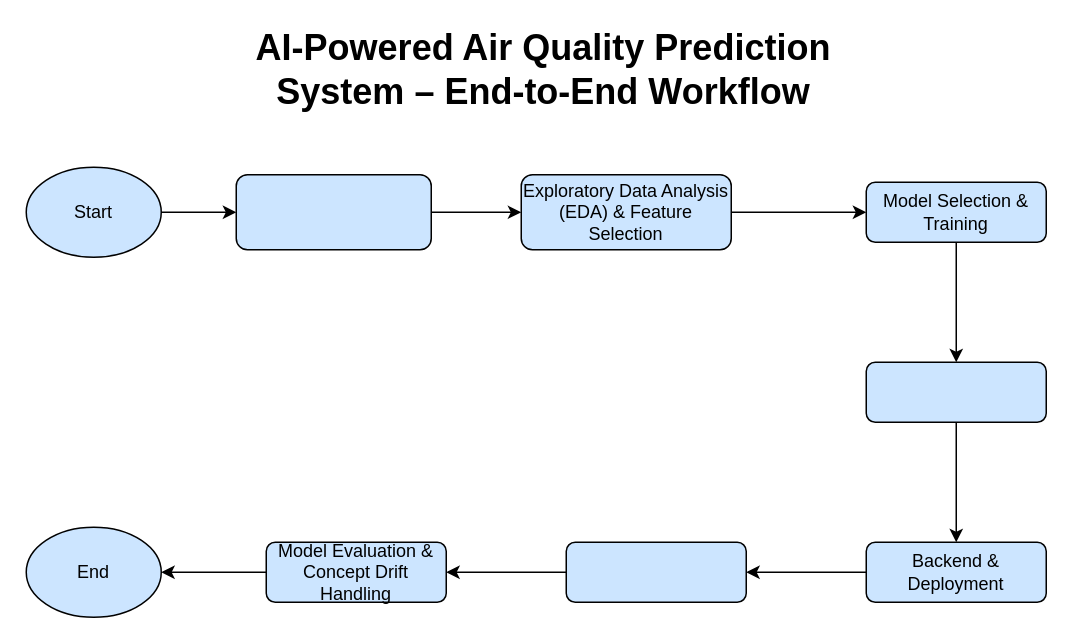
This 1073x644 diagram has some shape labels left out. The centre of each missing label's shape, as x and y in pixels:
"Data Collection & Preprocessing" goes at (333,211).
"Live AQI Fetching (API Integration)" goes at (955,391).
"UI & Visualization" goes at (655,571).
